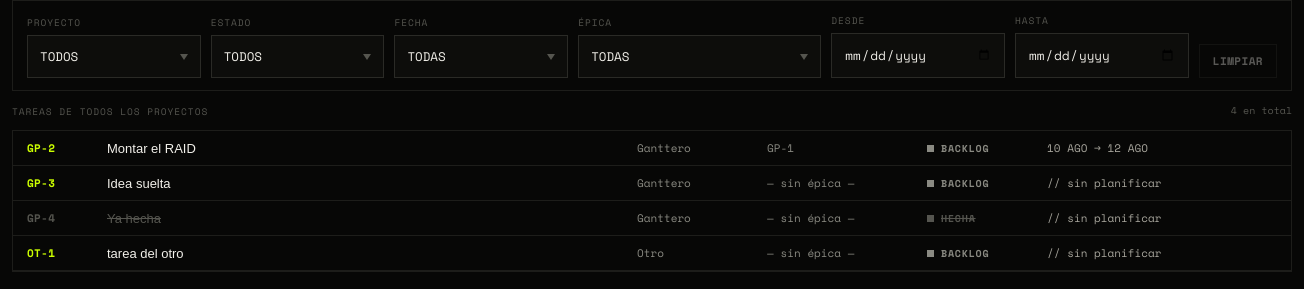
Test: BacklogView — todos los proyectos › el filtro de proyecto acota la lista
This screenshot has width=1304, height=289.
Select "OT · Otro" in the dropdown labelled "Proyecto": (114, 56) [27,35,201,78]
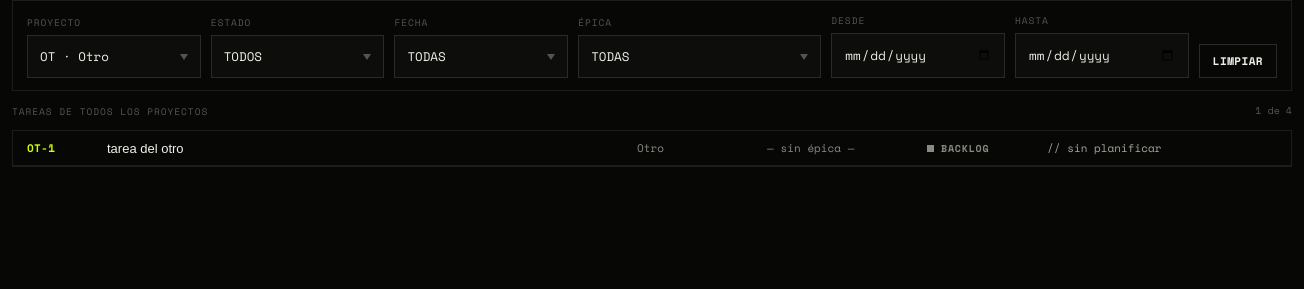
Check: the text "tarea del otro" is shown, box [107,140,184,156]
Check: the button "Montar el RAID" is gone
Check: the text "1 de 4" is shown, box [1255,103,1292,118]
